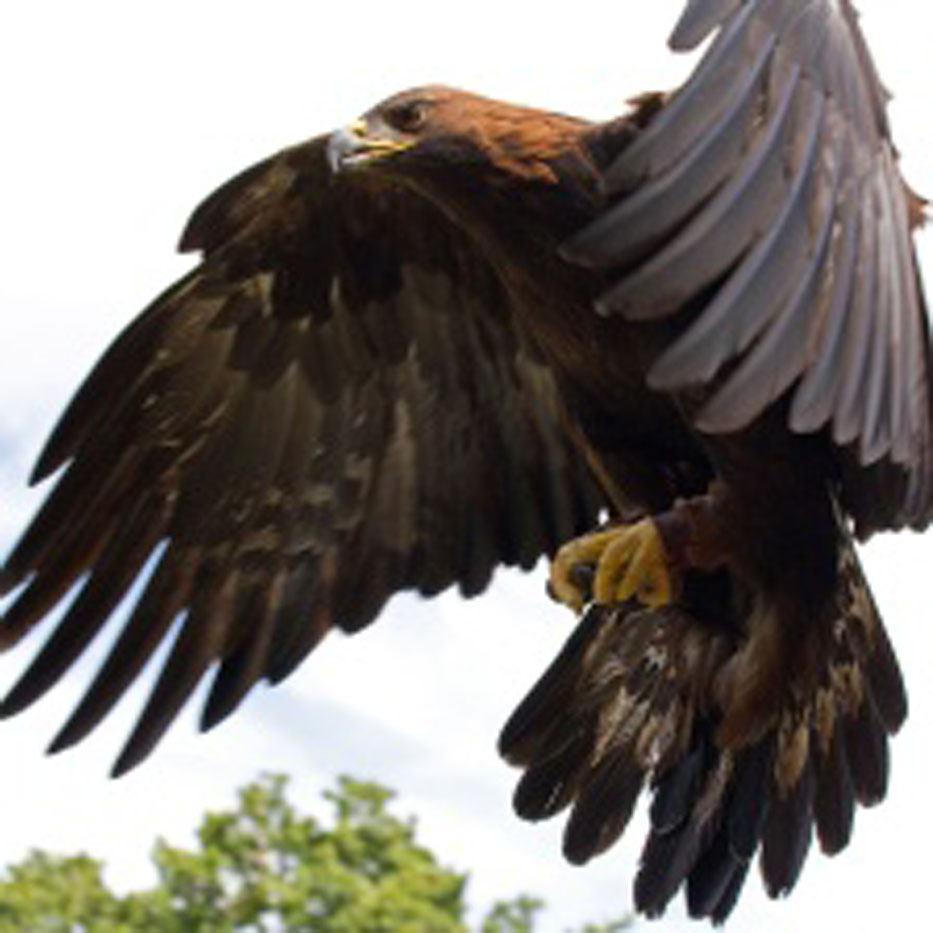Pengoyak Daging: (322, 126, 388, 177)
